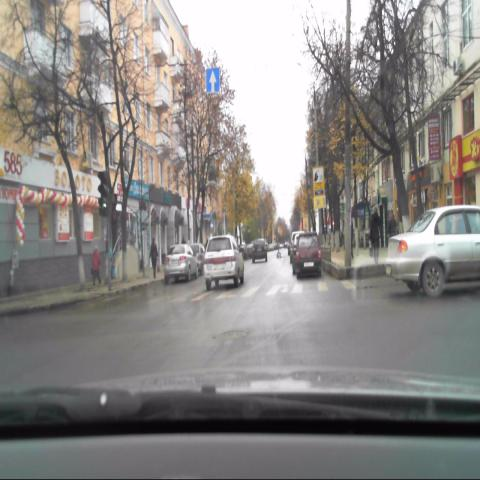5_5: (206, 68, 219, 93)
